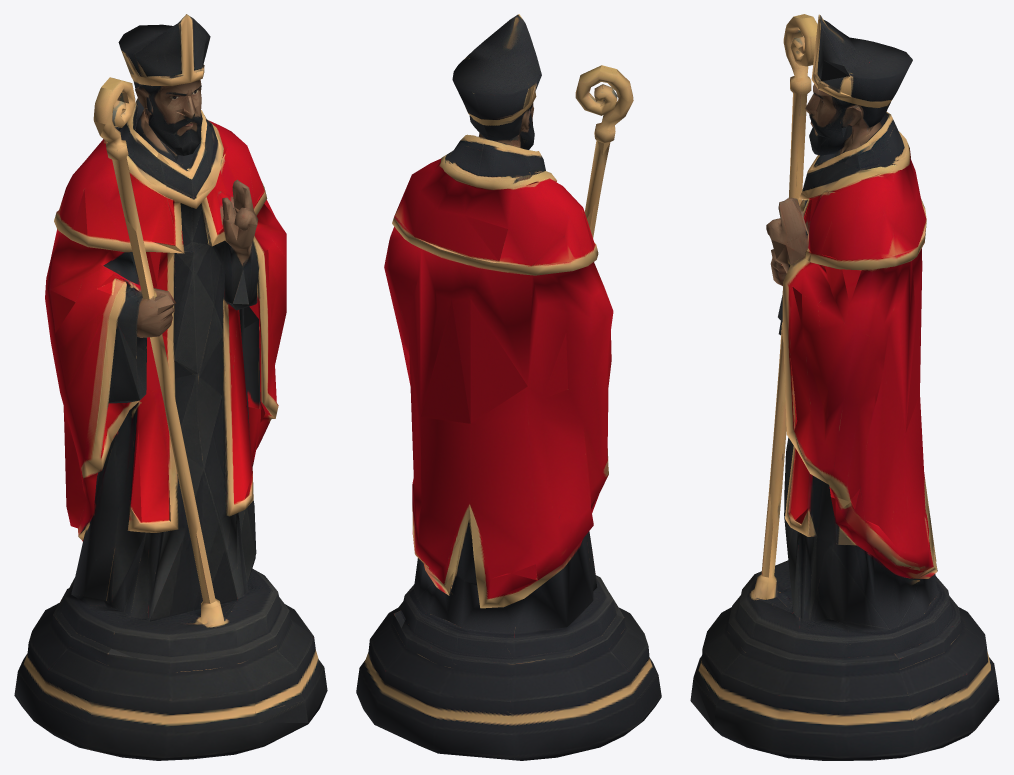
Rendered from bishop_black.glb.
The picture shows the model from 3 angles, left to right: view 1: azimuth 30°, elevation 25°; view 2: azimuth 150°, elevation 25°; view 3: azimuth 270°, elevation 25°; orthographic projection. The views are drawn at different scales.
Size of the model in its own units: 0.8058 by 2 by 0.8164.
1 material, 1 textured.
